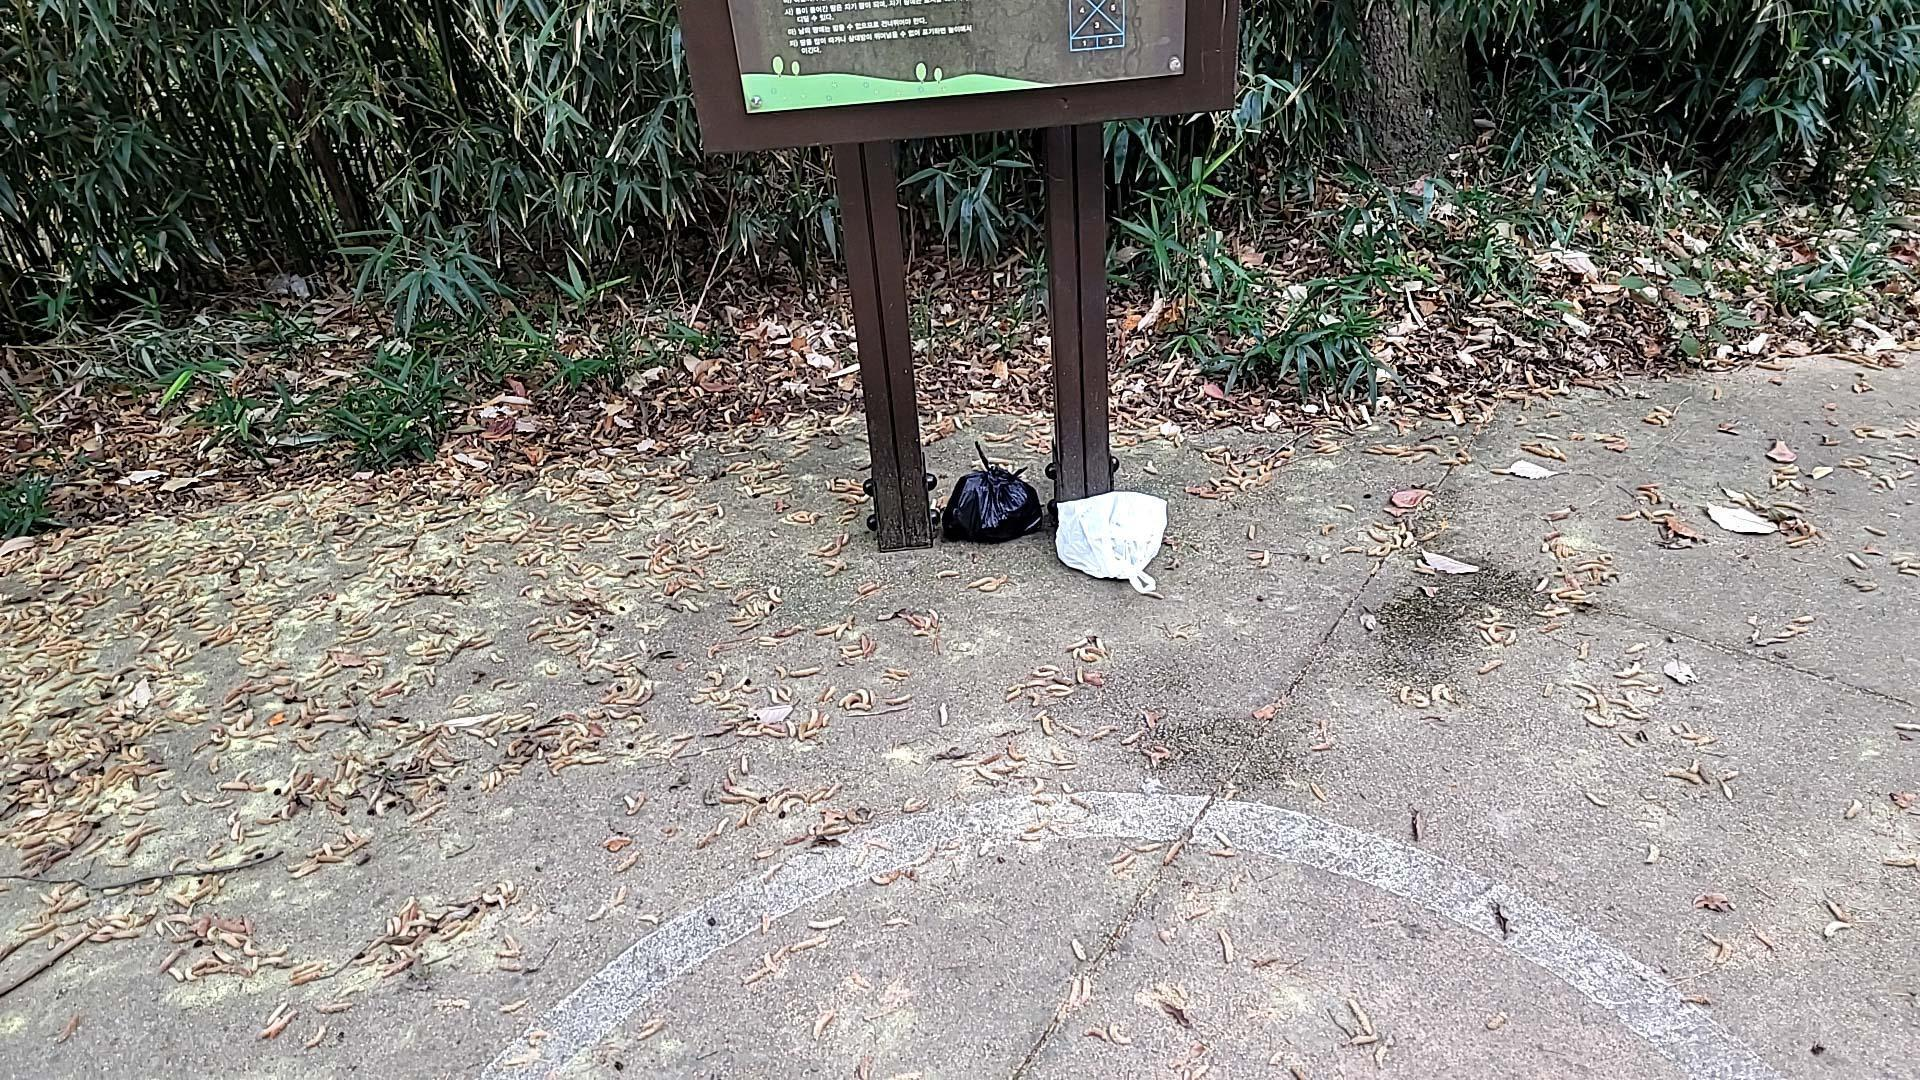black_bag: (934, 436, 1047, 545)
white_bag: (1040, 487, 1176, 597)
